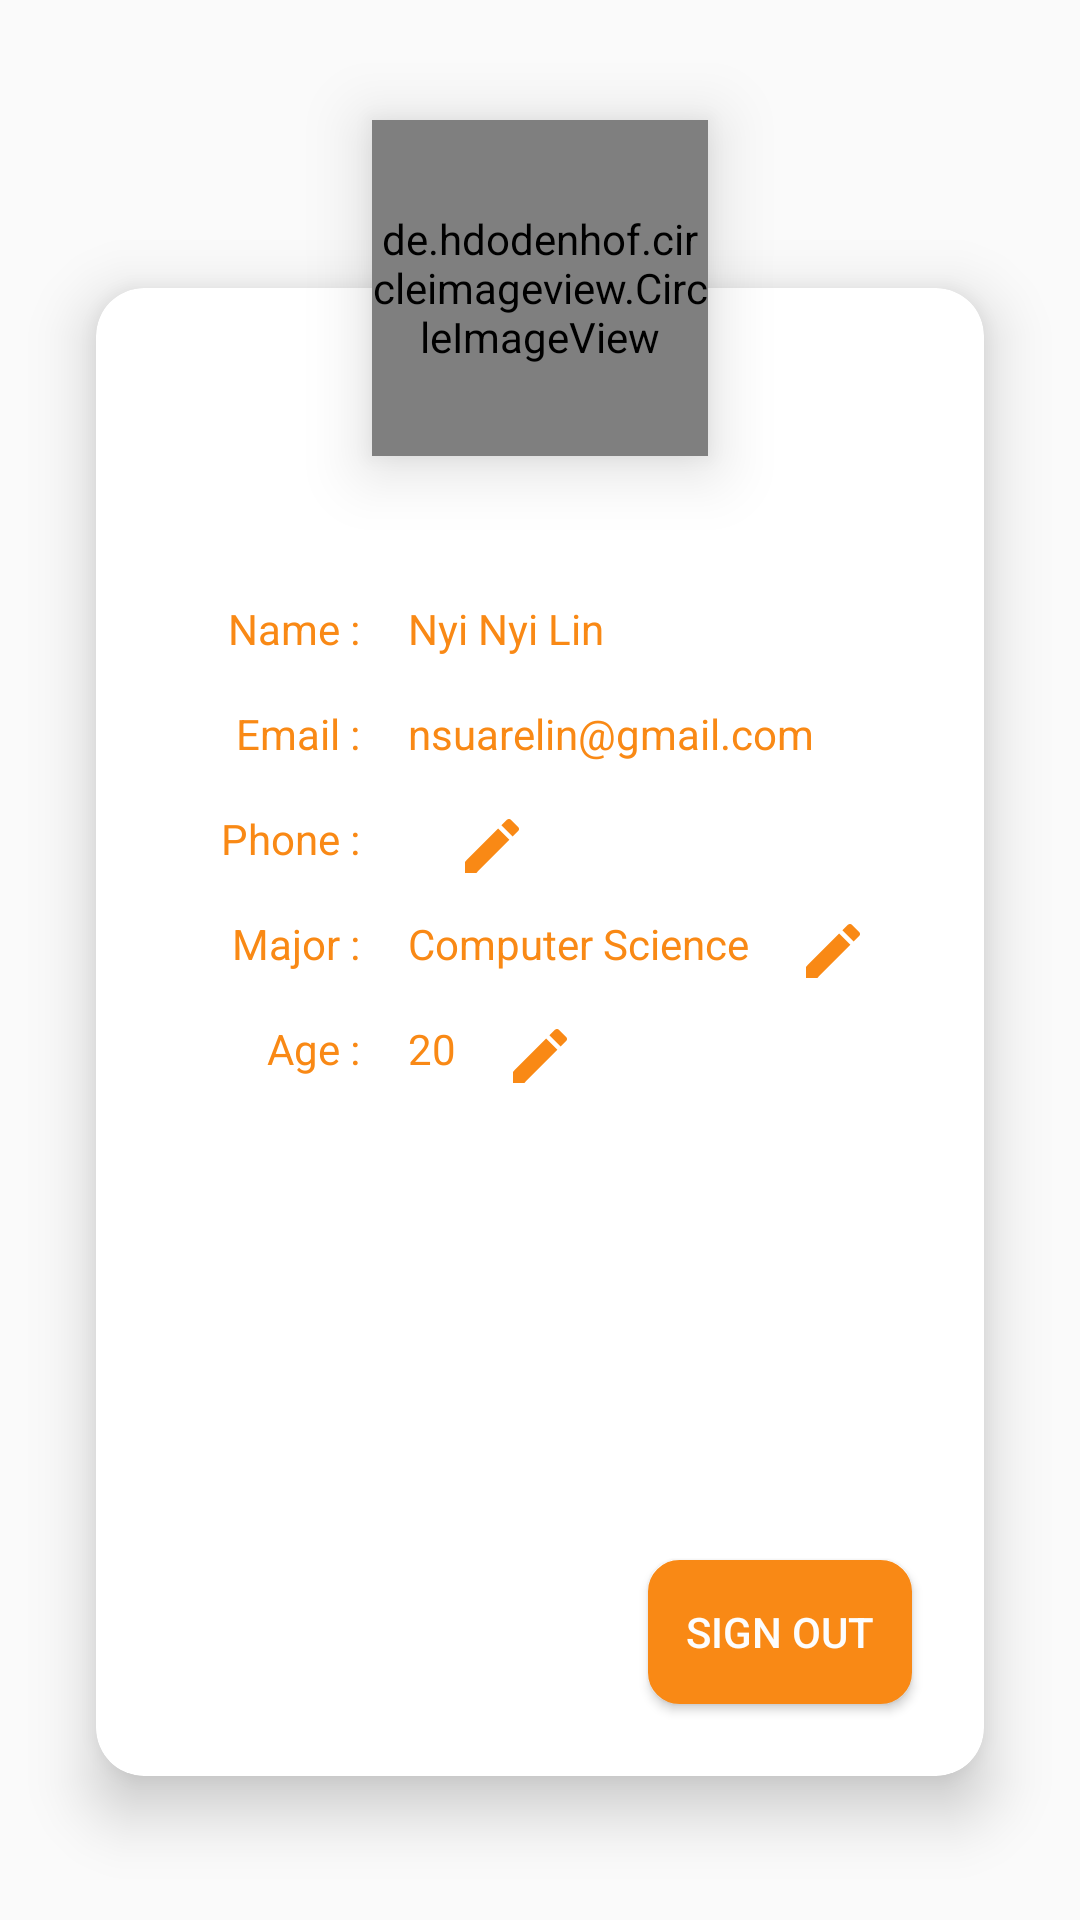

Icon click points for this 1080 × 1920 phone screenshot, format (x,y):
create: (492,846), (833,951), (540,1056)
